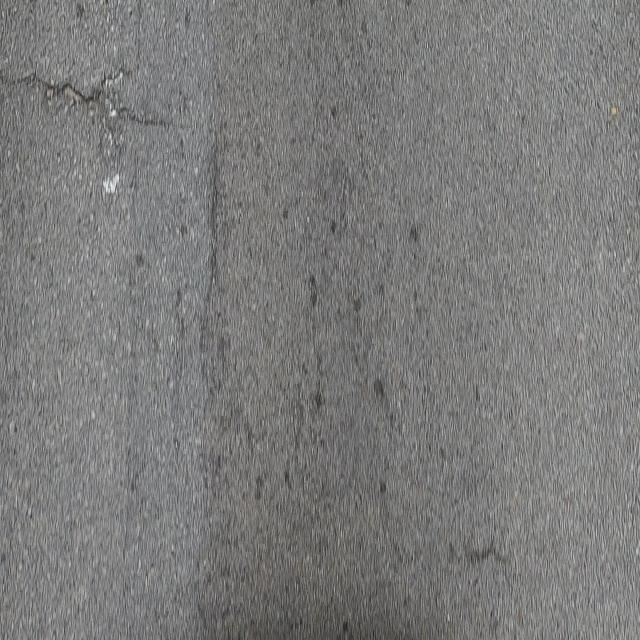Retak-Melintang: (2, 57, 171, 138)
